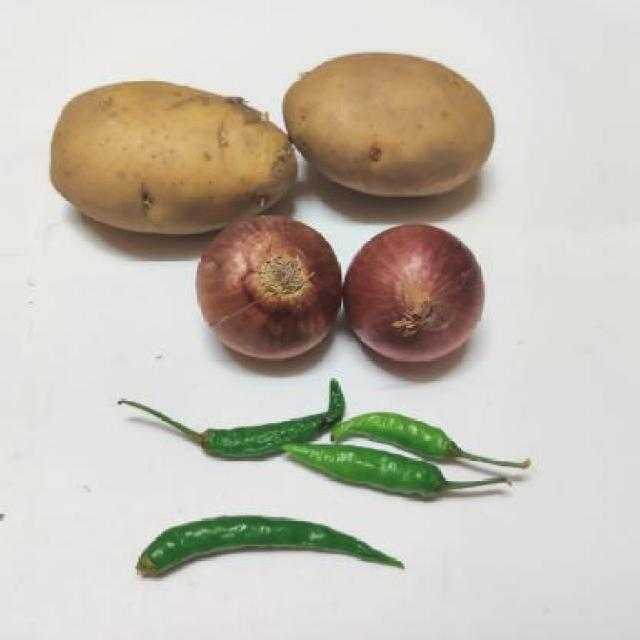Green Chili: (288, 406, 546, 508), (114, 508, 408, 590), (128, 374, 377, 457)
Onion: (332, 223, 490, 380)
Potato: (36, 81, 322, 237), (281, 52, 534, 206)
Tomato: (180, 209, 346, 368)
